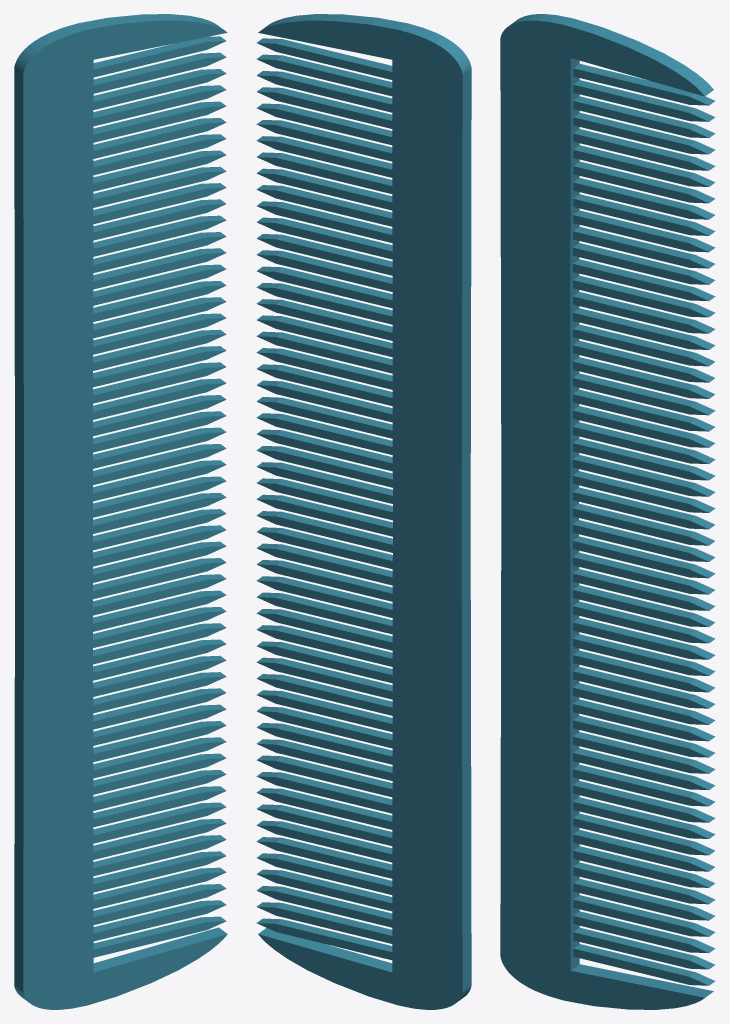
File: hair_comb_for_3d_printing_scaled.glb
The picture shows the model from 3 angles, left to right: view 1: azimuth 30°, elevation 25°; view 2: azimuth 150°, elevation 25°; view 3: azimuth 330°, elevation 25°; orthographic projection.
Visible parts, largest first — view 1: geometry_0; view 2: geometry_0; view 3: geometry_0.
Part boxes in pixels (left/top/right/bottom): geometry_0: left=14, top=14, right=227, bottom=1009; geometry_0: left=256, top=14, right=471, bottom=1009; geometry_0: left=500, top=14, right=715, bottom=1009.
Size of the model in its own units: 0.0265 by 0.1197 by 0.002.
